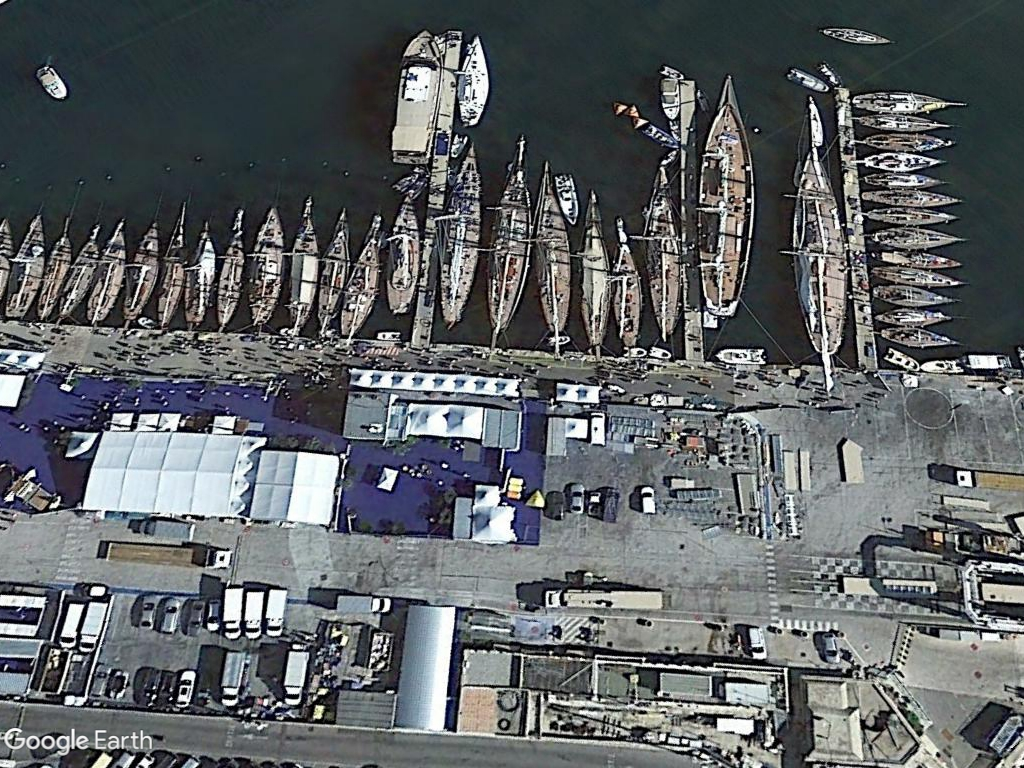boat: (696, 68, 747, 325), (791, 138, 845, 360), (526, 156, 577, 348), (482, 130, 526, 345), (638, 153, 687, 346), (445, 138, 480, 337), (576, 180, 614, 349), (284, 190, 321, 343), (608, 205, 642, 351), (381, 187, 416, 321), (186, 209, 218, 336), (456, 22, 491, 133)
car: (136, 587, 157, 637), (565, 476, 587, 522)
longvehicle: (101, 537, 235, 574), (537, 583, 669, 613)
van: (264, 577, 288, 644), (221, 583, 242, 645), (245, 581, 261, 648), (635, 483, 659, 522)
